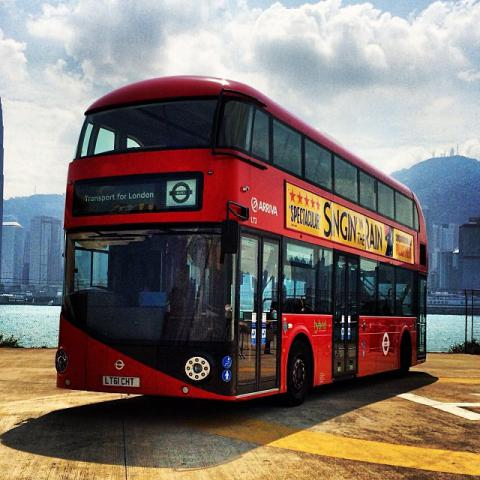bus: (53, 80, 437, 403)
